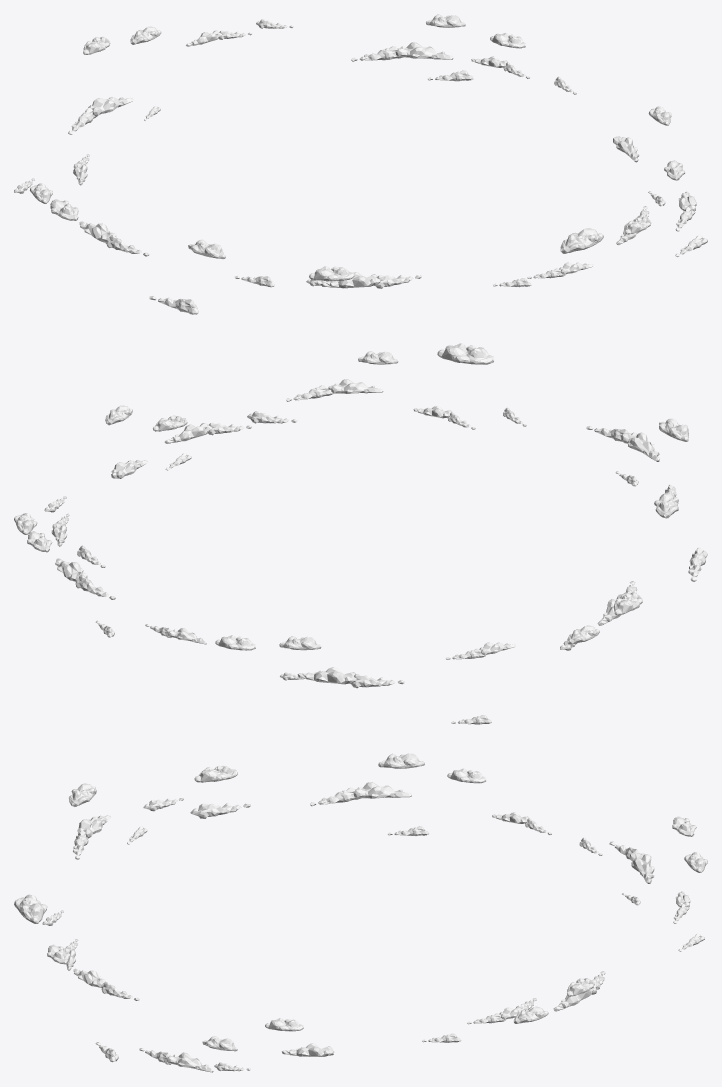
The model's file is clouds_lowPoly.glb.
3 renders of one model, top to bottom at view 1: azimuth 30°, elevation 25°; view 2: azimuth 150°, elevation 25°; view 3: azimuth 270°, elevation 25°, orthographic. The views are drawn at different scales.
Parts seen in each view (by area): view 1: SM_Env_Cloud_13, SM_Env_Cloud_34, SM_Env_Cloud_14, SM_Env_Cloud_16, SM_Env_Cloud_29; view 2: SM_Env_Cloud_13, SM_Env_Cloud_29; view 3: SM_Env_Cloud_21, SM_Env_Cloud_13, SM_Env_Cloud_24, SM_Env_Cloud_19, SM_Env_Cloud_20, SM_Env_Cloud_29.
Boxes of the visible parts, x1,y1,x2,y2 form: SM_Env_Cloud_13: (560,228,603,253); SM_Env_Cloud_34: (395,42,453,59); SM_Env_Cloud_14: (321,272,380,288); SM_Env_Cloud_16: (309,266,354,281); SM_Env_Cloud_29: (88,97,133,116); SM_Env_Cloud_13: (437,343,494,364); SM_Env_Cloud_29: (297,667,356,684); SM_Env_Cloud_21: (353,782,411,798); SM_Env_Cloud_13: (14,894,47,923); SM_Env_Cloud_24: (378,753,424,768); SM_Env_Cloud_19: (190,803,250,818); SM_Env_Cloud_20: (194,765,237,782); SM_Env_Cloud_29: (629,852,654,883).
Bounding box in the file's own units: 832 × 127 × 876.
Materials: 1 (1 with a texture image).
